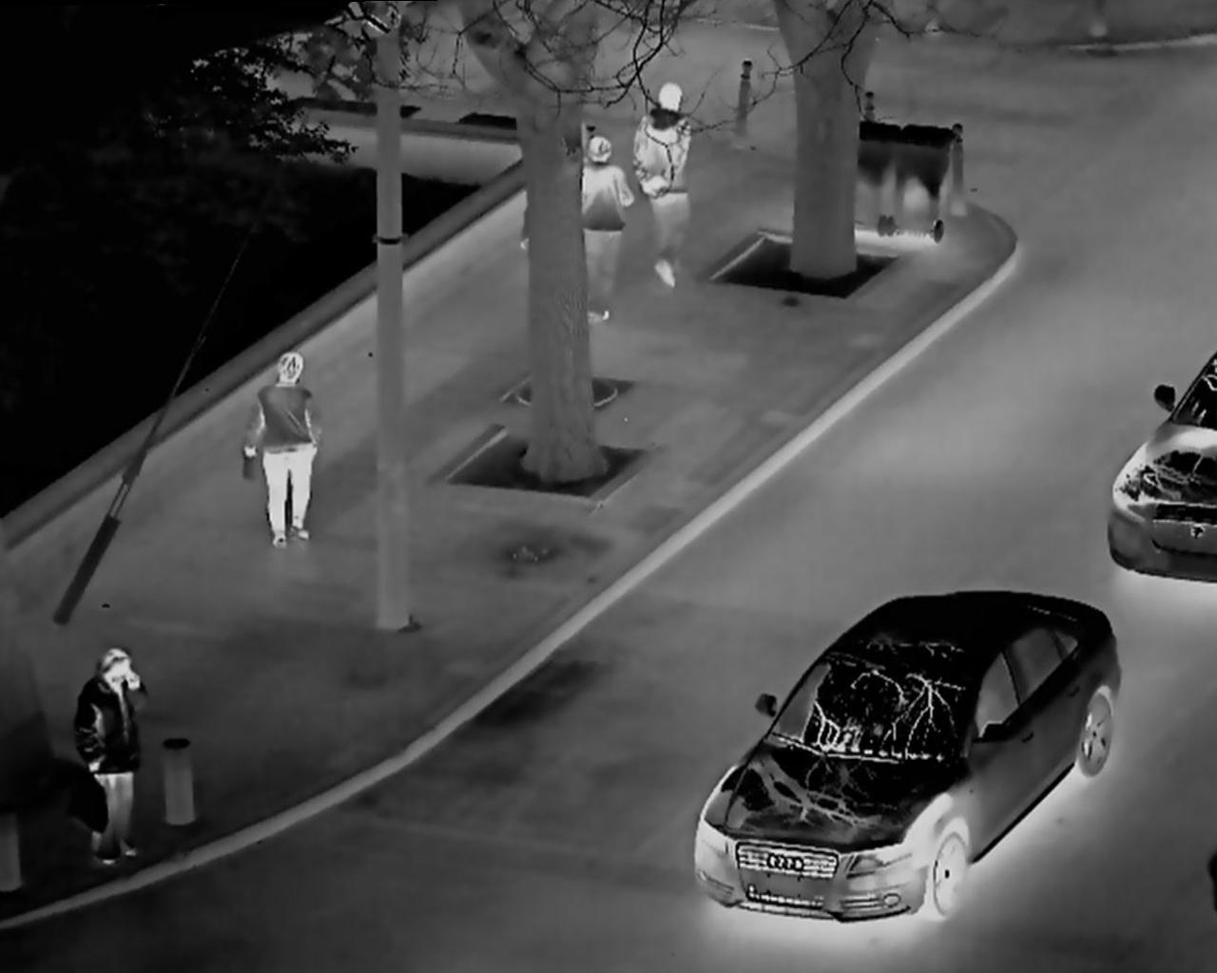person: (63, 638, 162, 859), (245, 338, 341, 556), (633, 77, 707, 296), (577, 125, 633, 338)
